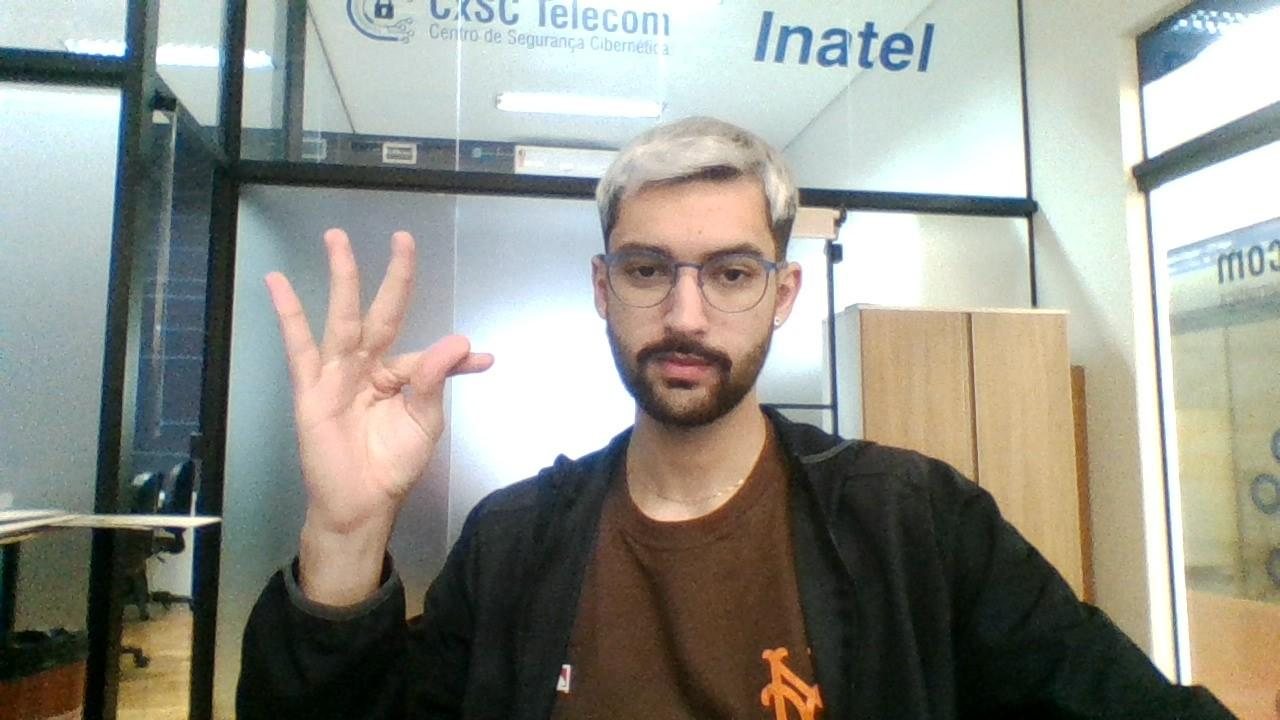T: (256, 222, 500, 510)
